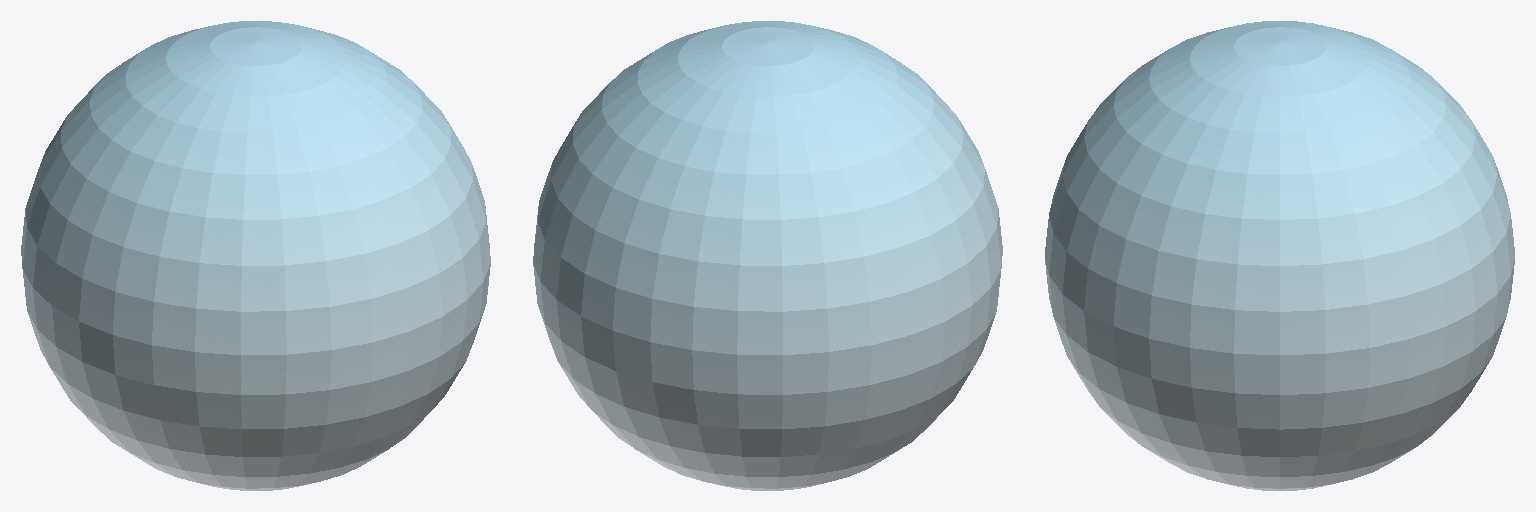
3 renders of one model, left to right at view 1: azimuth 30°, elevation 25°; view 2: azimuth 150°, elevation 25°; view 3: azimuth 270°, elevation 25°, orthographic.
Visible parts, largest first — view 1: sphere; view 2: sphere; view 3: sphere.
Boxes of the visible parts, box(x1,y1,x2,y2) form: sphere: box(21, 21, 490, 490); sphere: box(533, 21, 1002, 490); sphere: box(1045, 21, 1514, 490).
Bounding box in the file's own units: 100 × 100 × 100.
1 materials, 1 textured.